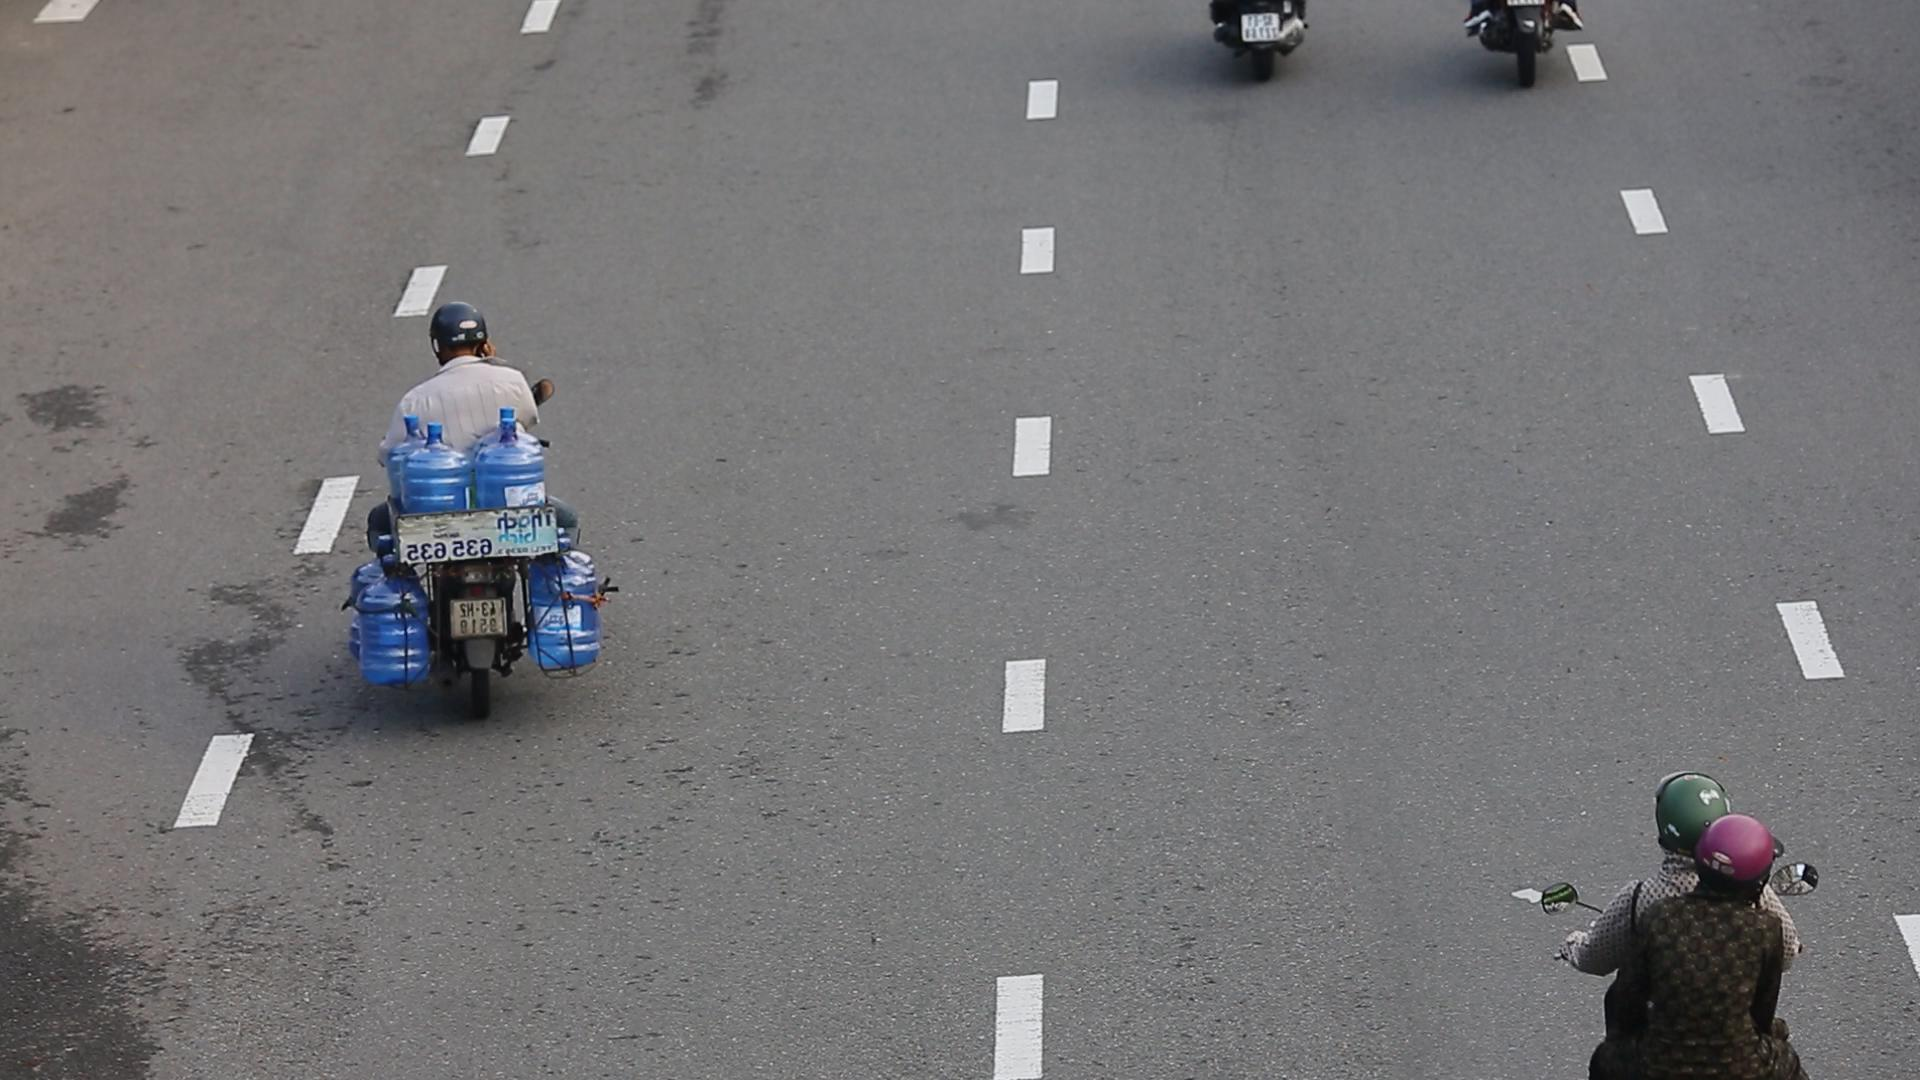motobike: (359, 298, 580, 703)
